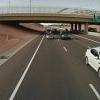Bridge: (4, 2, 94, 30)
